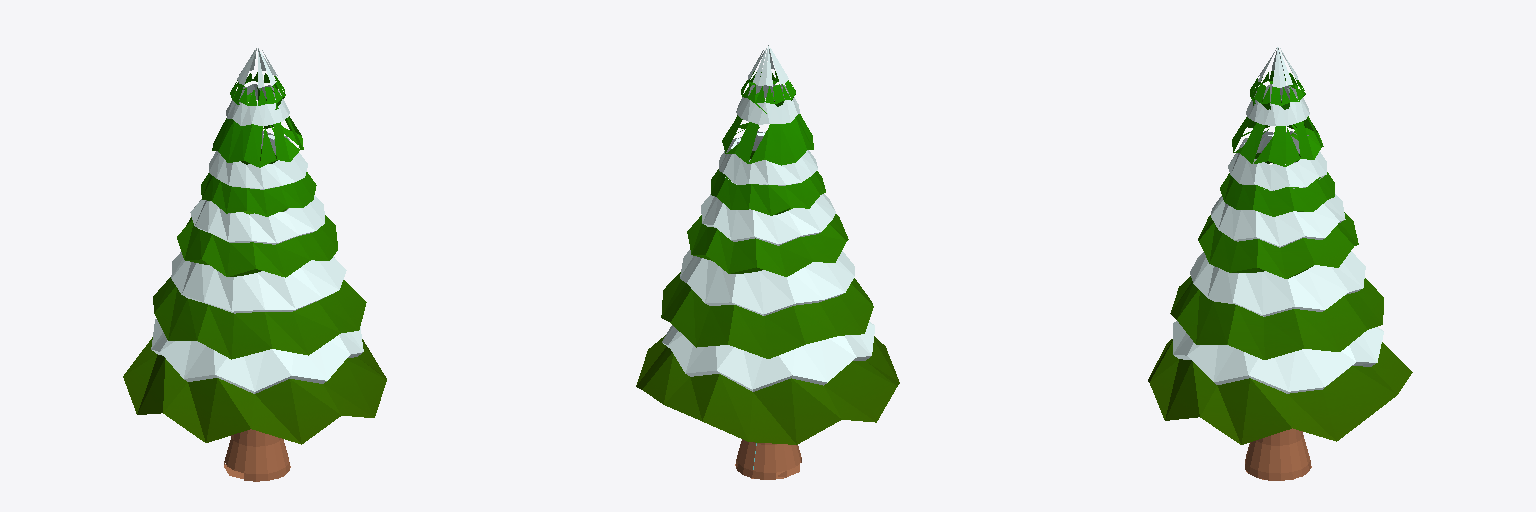
3 renders of one model, left to right at view 1: azimuth 30°, elevation 25°; view 2: azimuth 150°, elevation 25°; view 3: azimuth 270°, elevation 25°, orthographic.
Visible parts, largest first — view 1: Cylinder.005_Material.003_0, Cylinder.005_Material.002_0, Cylinder.005_Material.004_0; view 2: Cylinder.005_Material.003_0, Cylinder.005_Material.002_0, Cylinder.005_Material.004_0; view 3: Cylinder.005_Material.003_0, Cylinder.005_Material.002_0, Cylinder.005_Material.004_0.
Part boxes in pixels (x1,y1,x2,y2): Cylinder.005_Material.003_0: (123,72,386,444); Cylinder.005_Material.002_0: (151,48,363,393); Cylinder.005_Material.004_0: (224,429,290,481); Cylinder.005_Material.003_0: (636,71,899,444); Cylinder.005_Material.002_0: (662,45,874,391); Cylinder.005_Material.004_0: (735,439,801,479); Cylinder.005_Material.003_0: (1148,71,1412,444); Cylinder.005_Material.002_0: (1173,47,1383,393); Cylinder.005_Material.004_0: (1245,428,1311,480).
Bounding box in the file's own units: 3.89 × 6.89 × 3.93.
3 materials, 3 textured.